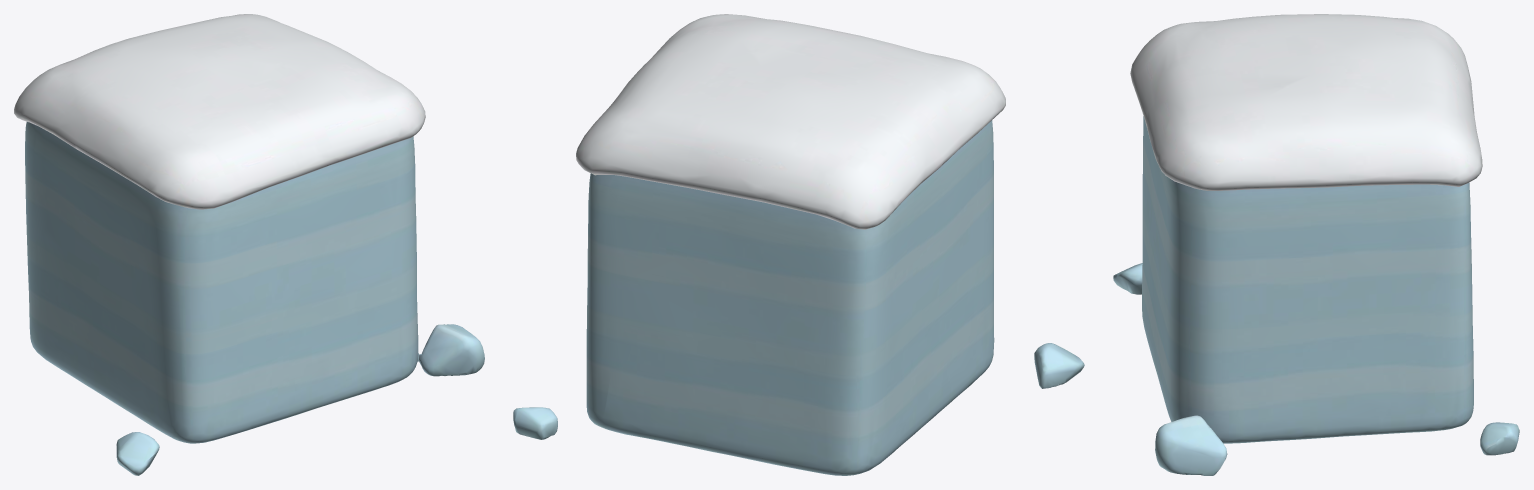
Rendered from bloque_hielo.glb.
The picture shows the model from 3 angles, left to right: view 1: azimuth 30°, elevation 25°; view 2: azimuth 150°, elevation 25°; view 3: azimuth 270°, elevation 25°; orthographic projection. The views are drawn at different scales.
Parts seen in each view (by area): view 1: ice-block_body; view 2: ice-block_body; view 3: ice-block_body.
Part boxes in pixels (x1,y1,x2,y2): ice-block_body: [14, 14, 484, 475]; ice-block_body: [513, 14, 1084, 475]; ice-block_body: [1113, 14, 1519, 475].
Size of the model in its own units: 1.39 by 1.03 by 1.21.
Materials: 1 (1 with a texture image).
